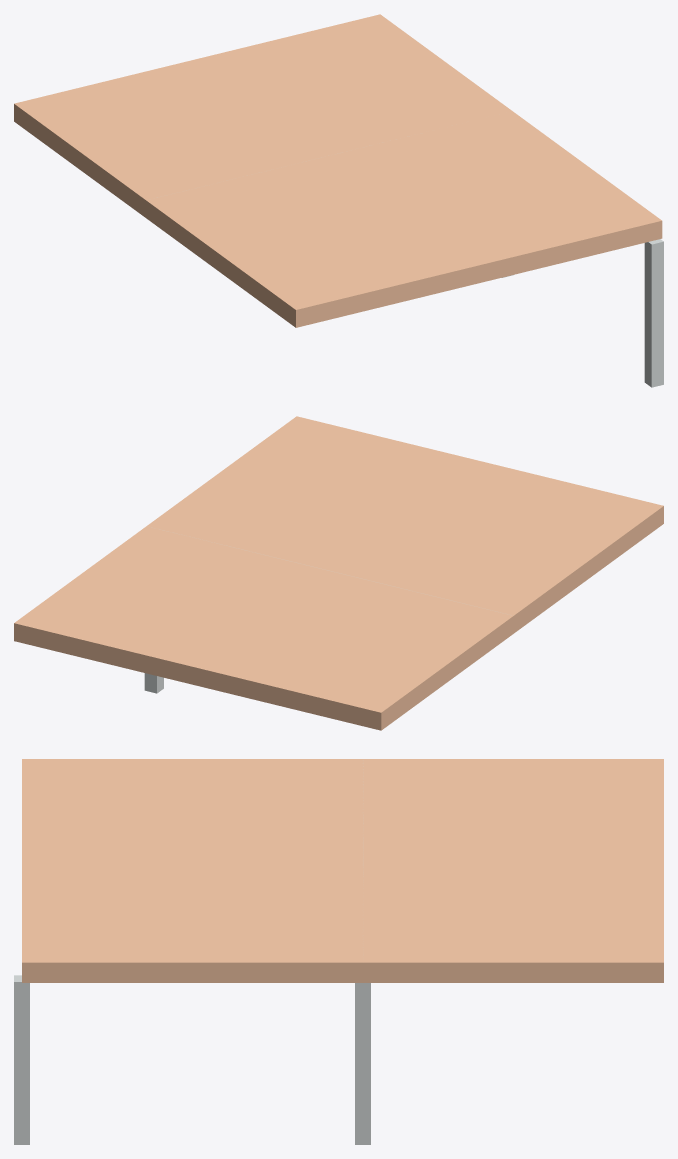
Rendered from desk-row-d4.glb.
The picture shows the model from 3 angles, top to bottom: view 1: azimuth 30°, elevation 25°; view 2: azimuth 150°, elevation 25°; view 3: azimuth 270°, elevation 25°; orthographic projection. The views are drawn at different scales.
Visible parts, largest first — view 1: desktop, shared-corner-leg; view 2: desktop; view 3: desktop, shared-corner-leg (×2).
Boxes of the visible parts, box(x1,y1,x2,y2) form: desktop: box(14, 14, 662, 327); shared-corner-leg: box(644, 239, 663, 387); desktop: box(14, 416, 663, 730); desktop: box(22, 759, 663, 982); shared-corner-leg (×2): box(14, 975, 370, 1144).
Bounding box in the file's own units: 3 × 1.26 × 4.05.
1 material, 1 textured.
